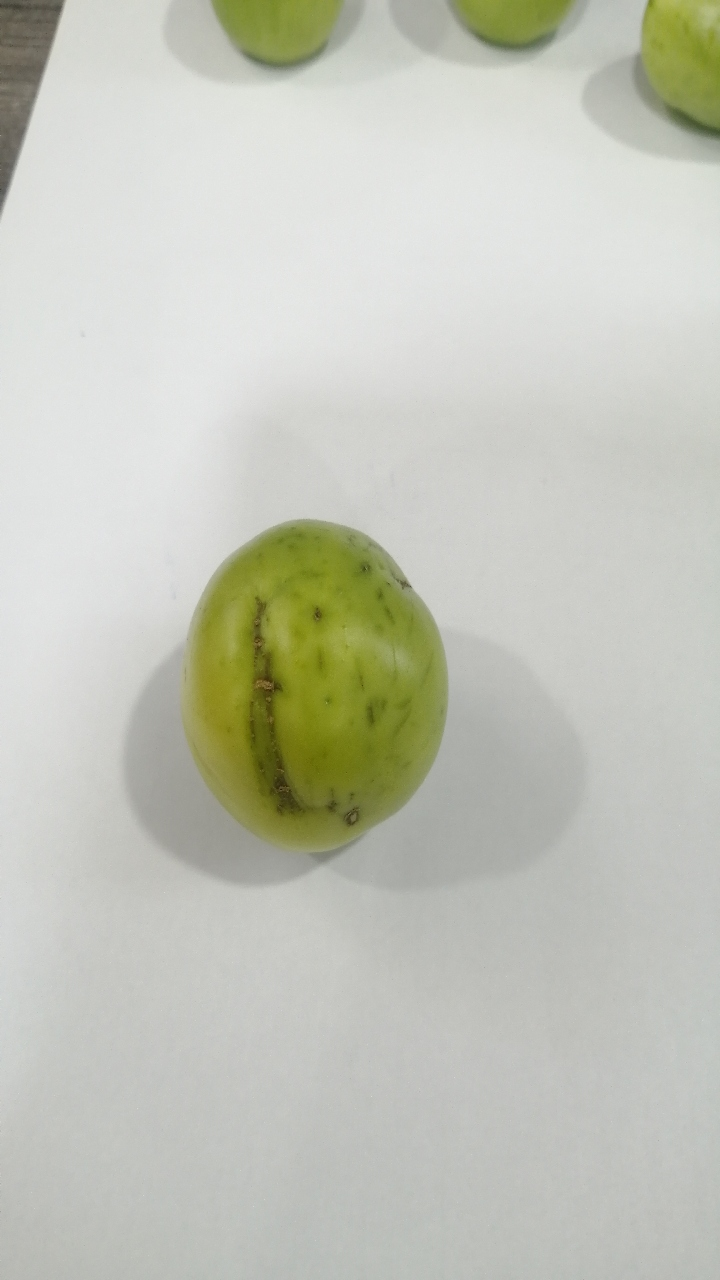tomateVerde: (164, 489, 466, 886)
